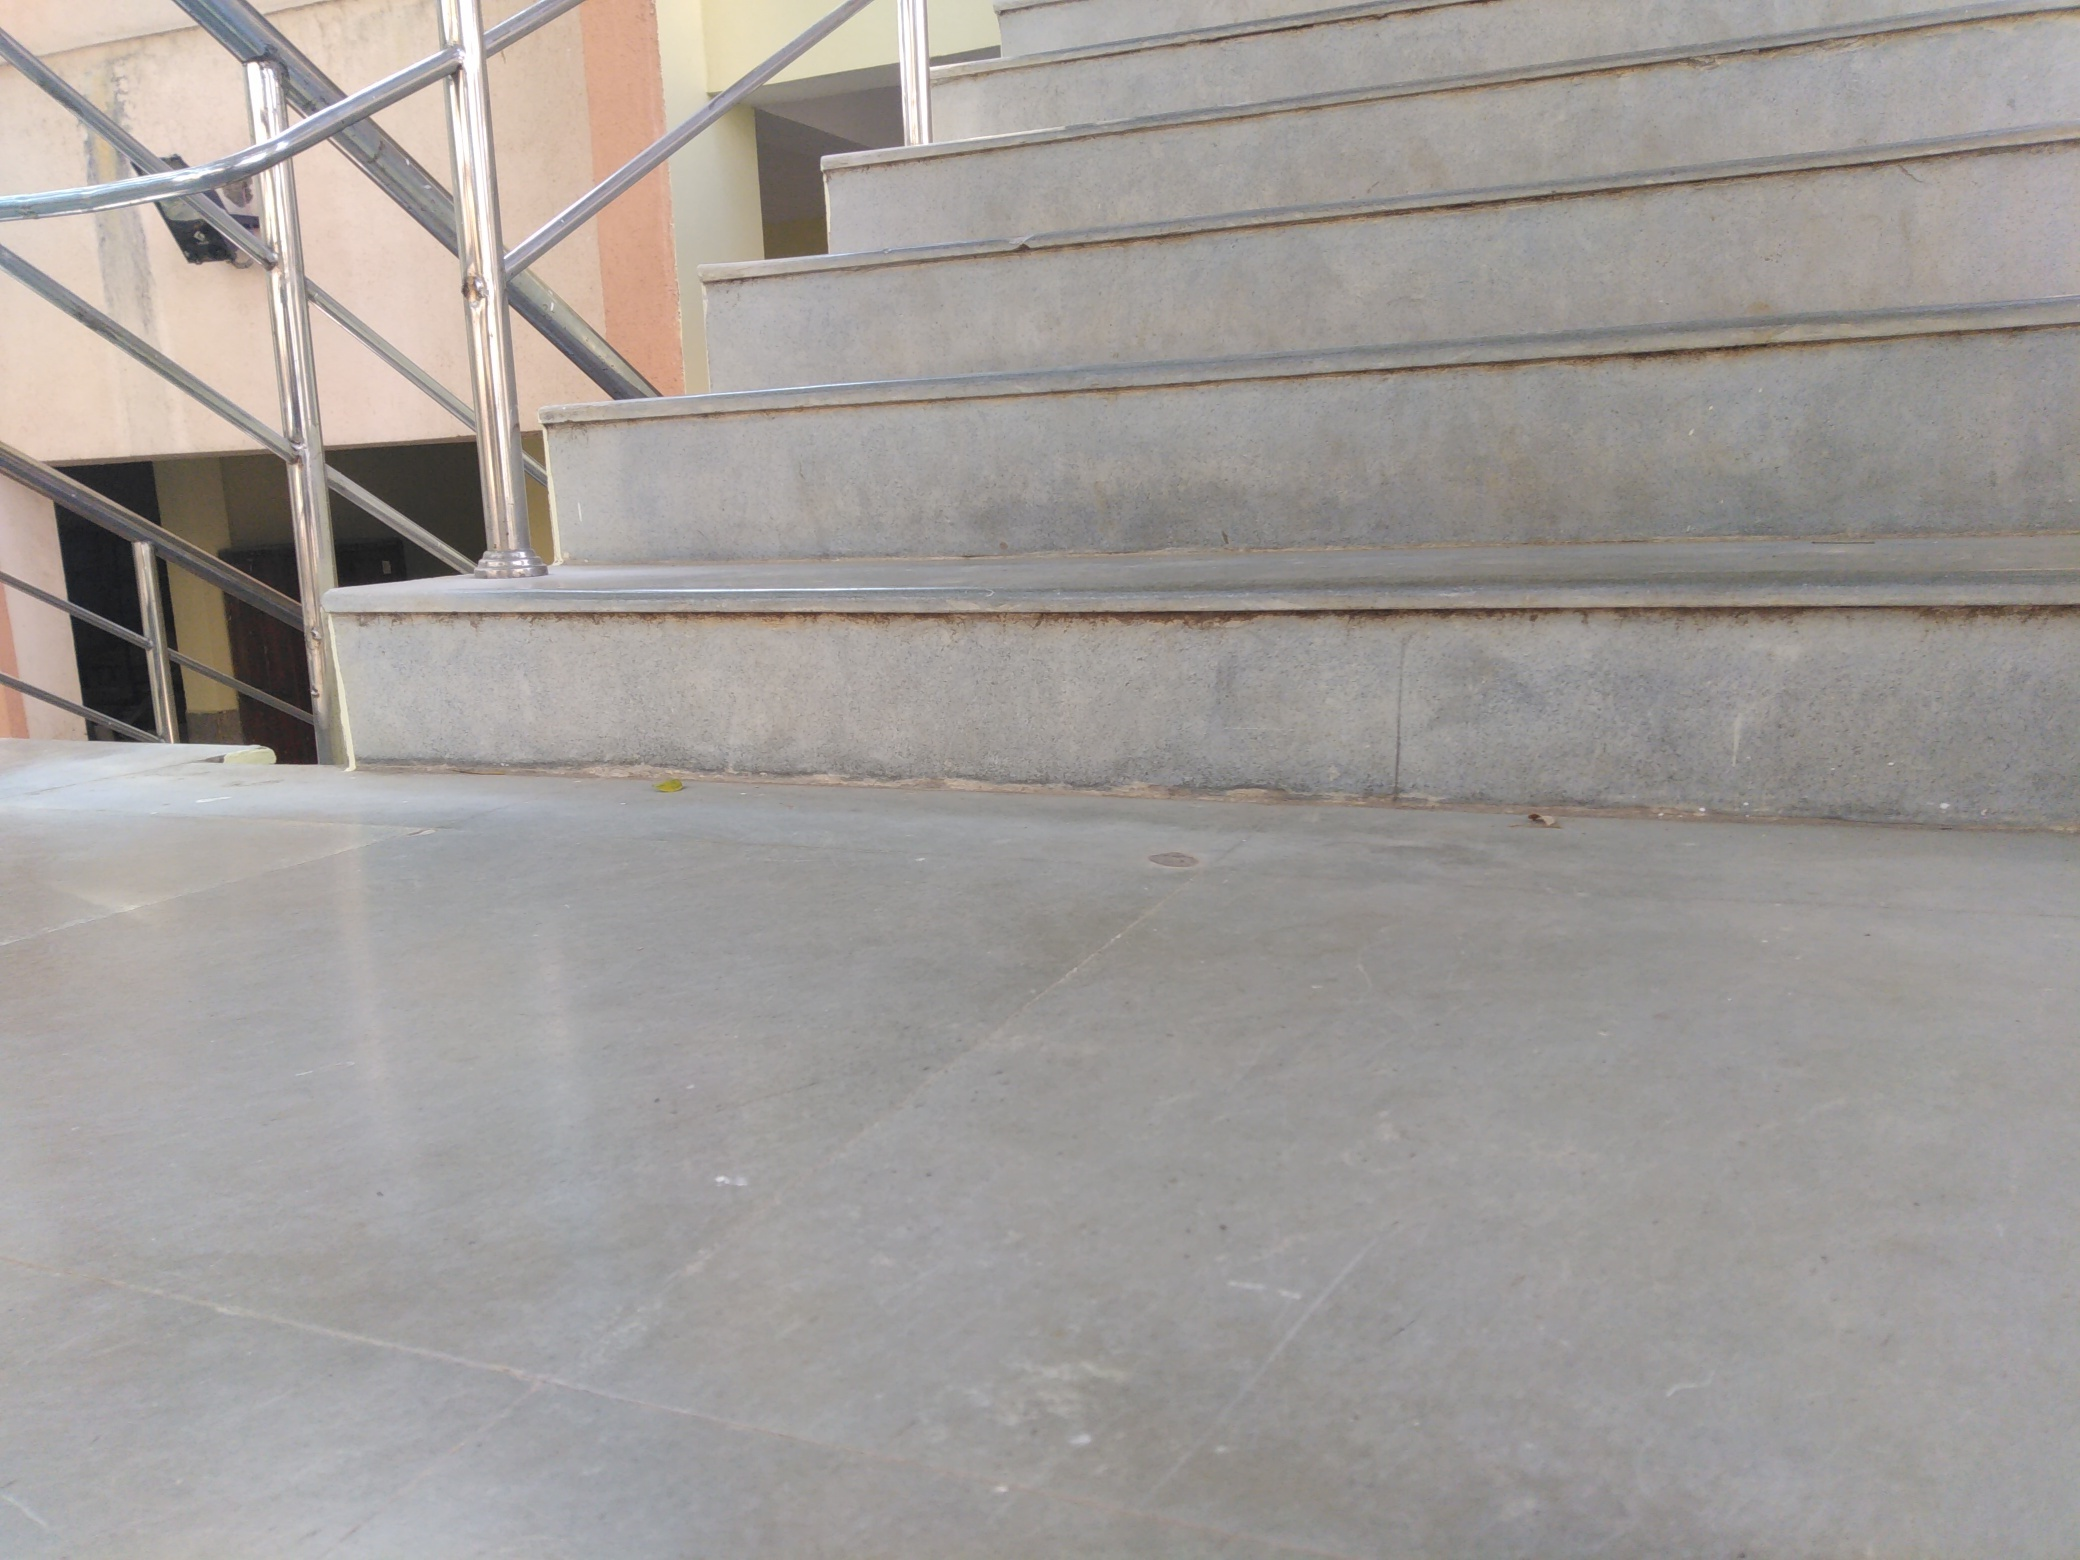stairs_up: (296, 11, 2054, 816)
